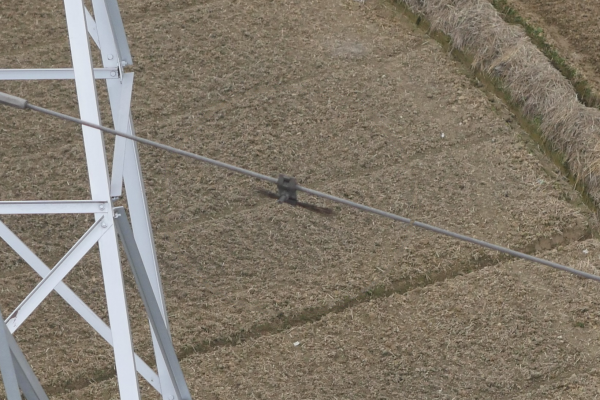damper_defect: (250, 170, 338, 220)
